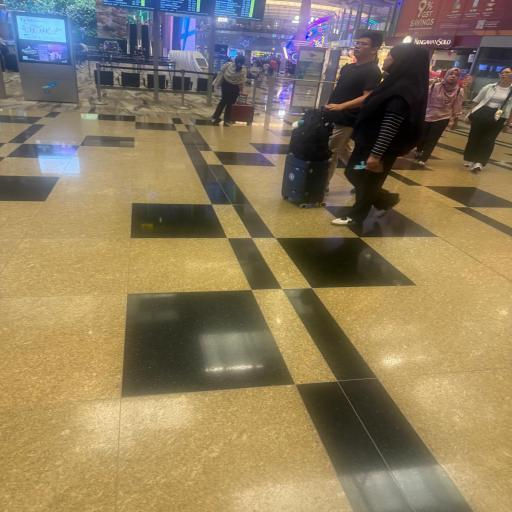person_left: (332, 43, 430, 227)
person_with_luggage_left: (322, 32, 385, 194)
